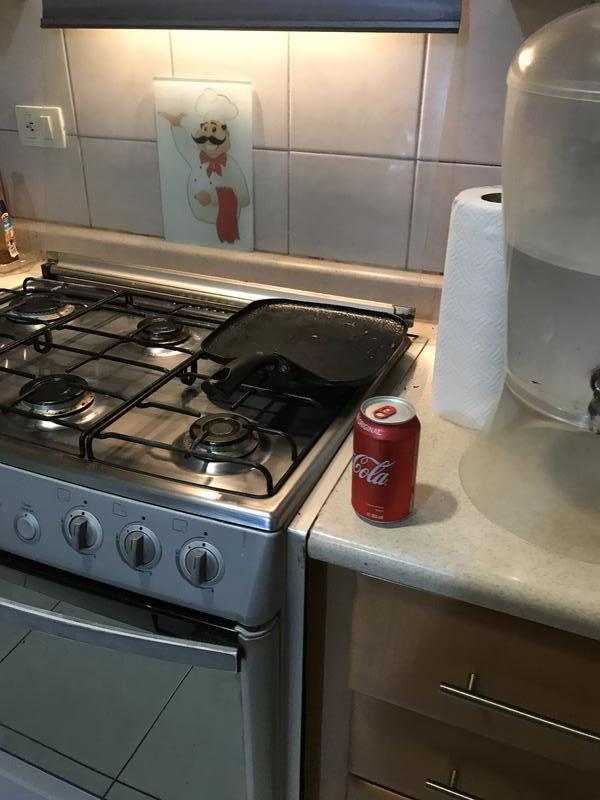coca_cola: (351, 395, 419, 527)
